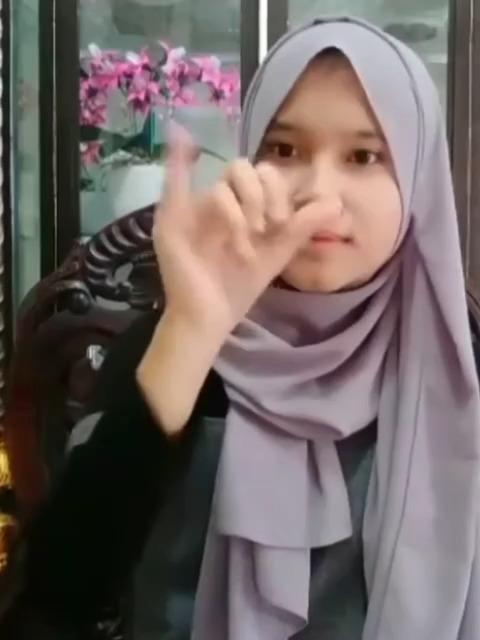Y: (147, 121, 340, 306)
